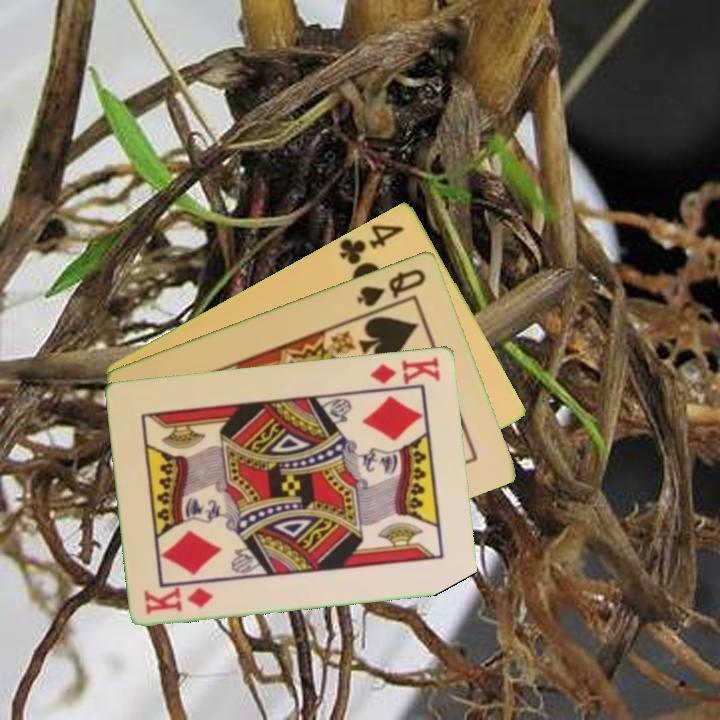4c: (335, 220, 407, 272)
Kd: (367, 353, 444, 387), (141, 584, 216, 617)
Qs: (353, 264, 429, 310)
